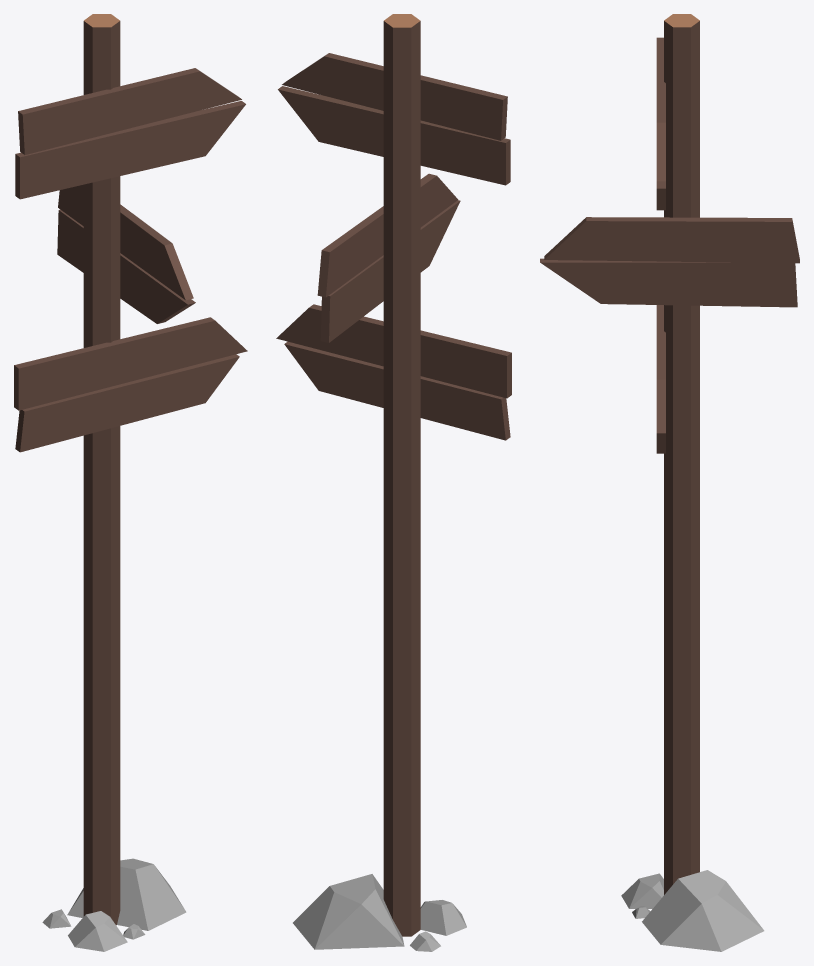
The model's file is GuideSigns_01.fbx.
3 renders of one model, left to right at view 1: azimuth 30°, elevation 25°; view 2: azimuth 150°, elevation 25°; view 3: azimuth 270°, elevation 25°, orthographic. The views are drawn at different scales.
Parts seen in each view (by area): view 1: GuideSigns_01; view 2: GuideSigns_01; view 3: GuideSigns_01.
Boxes of the visible parts, x1=… form: GuideSigns_01: x1=14, y1=14, x2=247, y2=951; GuideSigns_01: x1=276, y1=14, x2=511, y2=951; GuideSigns_01: x1=540, y1=14, x2=799, y2=951.
Size of the model in its own units: 158 by 596 by 158.
